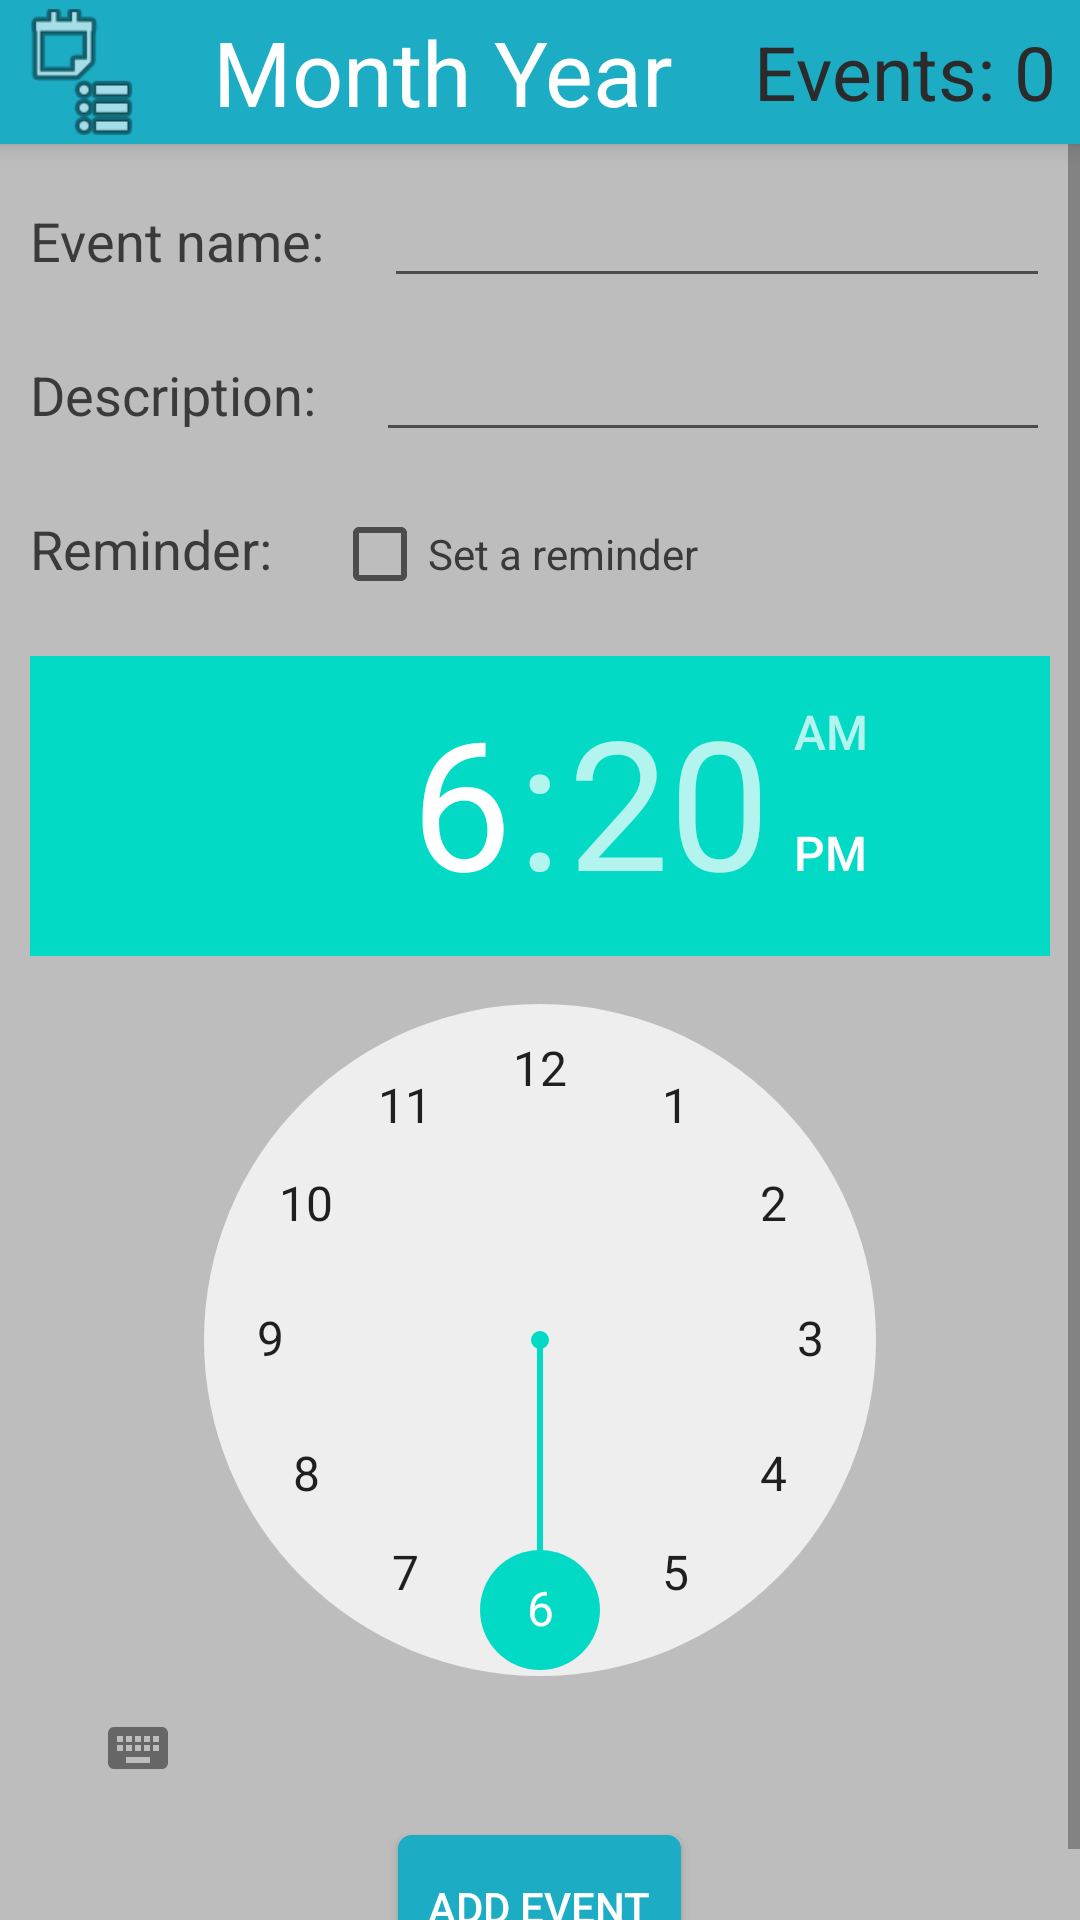

Icons on this 1080w x 1920h Android screen, each with its box as (x1, y1, x2, y2):
agenda: (31, 9, 132, 135)
